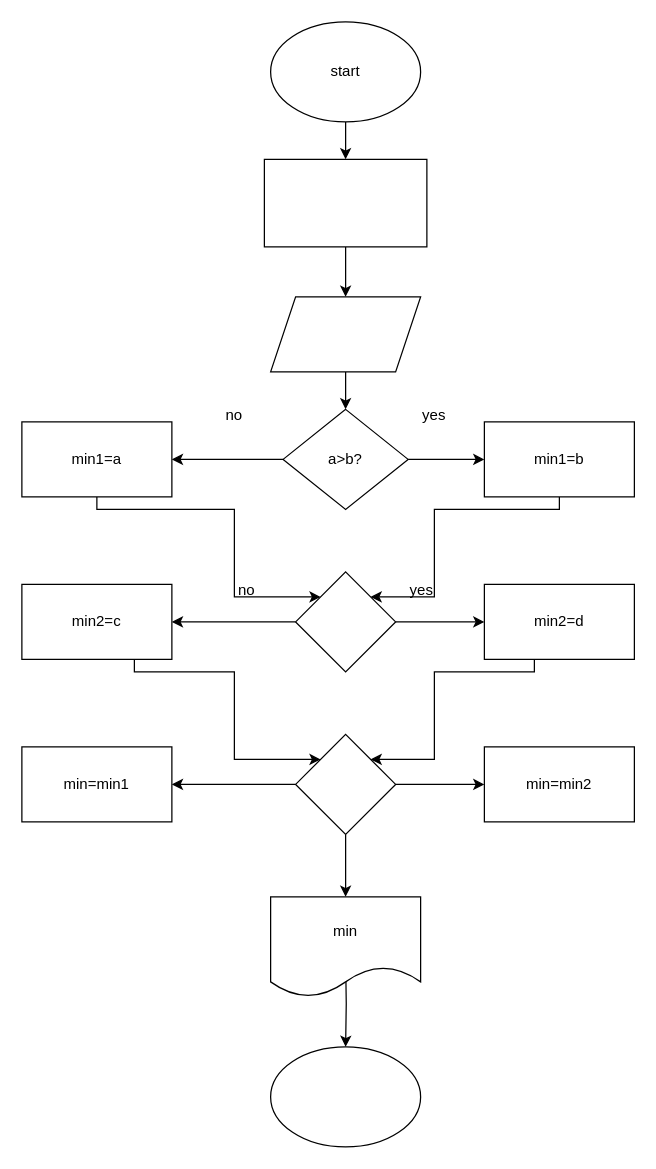
This 656x1169 diagram has some shape labels left out. The shapes that lost their labels are listed below. From the top down, each one's centre as x and y in pixels, then its label:
At (x=345, y=202): "a,b,c,d ,min1,min2,min".
At (x=345, y=334): "a,b,c,d".
At (x=345, y=621): "c>d".
At (x=345, y=783): "min1>min2".
At (x=345, y=1096): "finish".
